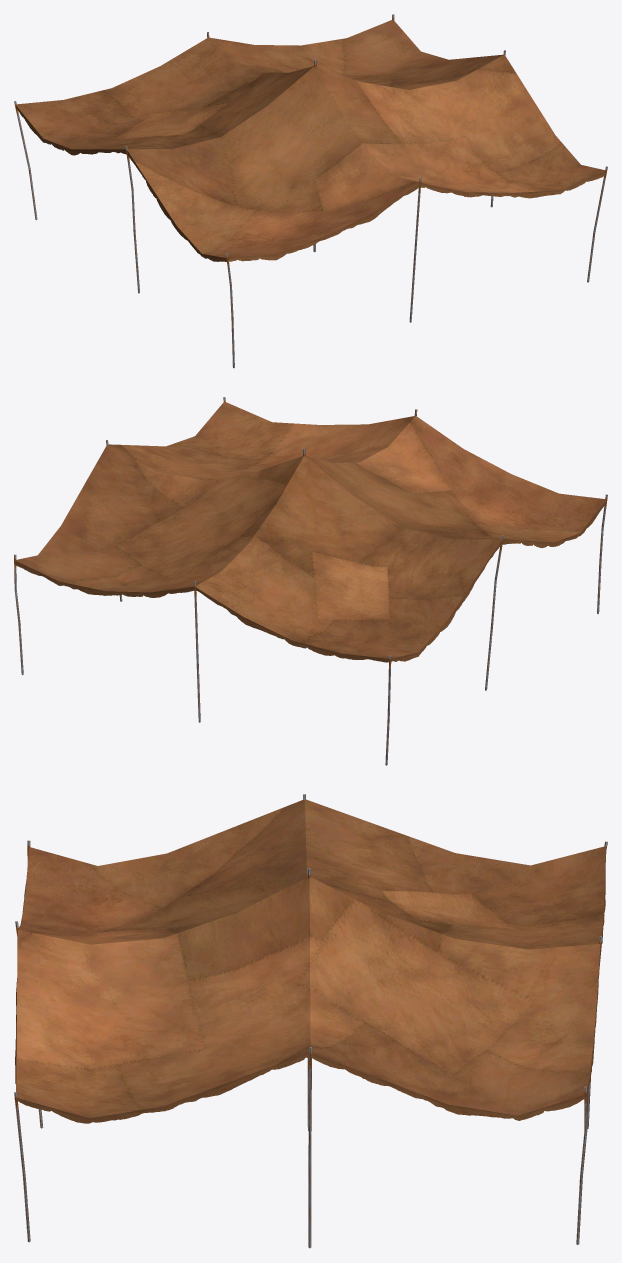
Rendered from thm_tato_jawa_tent_large_l1.fbx.
3 renders of one model, top to bottom at view 1: azimuth 30°, elevation 25°; view 2: azimuth 150°, elevation 25°; view 3: azimuth 270°, elevation 25°, orthographic. The views are drawn at different scales.
Parts seen in each view (by area): view 1: mesh_node; view 2: mesh_node; view 3: mesh_node.
Boxes of the visible parts, box(x1,y1,x2,y2) form: mesh_node: box(14, 14, 607, 368); mesh_node: box(14, 397, 607, 765); mesh_node: box(14, 794, 607, 1248).
Bounding box in the file's own units: 10.88 × 5.21 × 10.65.
